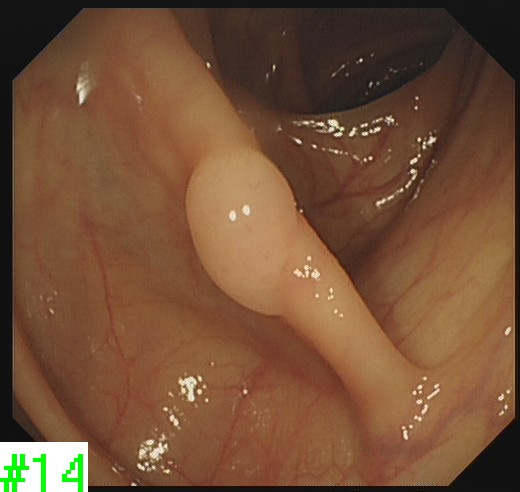others: (181, 143, 302, 321)
